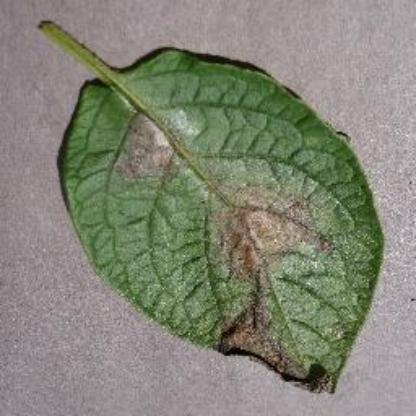Late-Blight: (26, 14, 387, 402)
